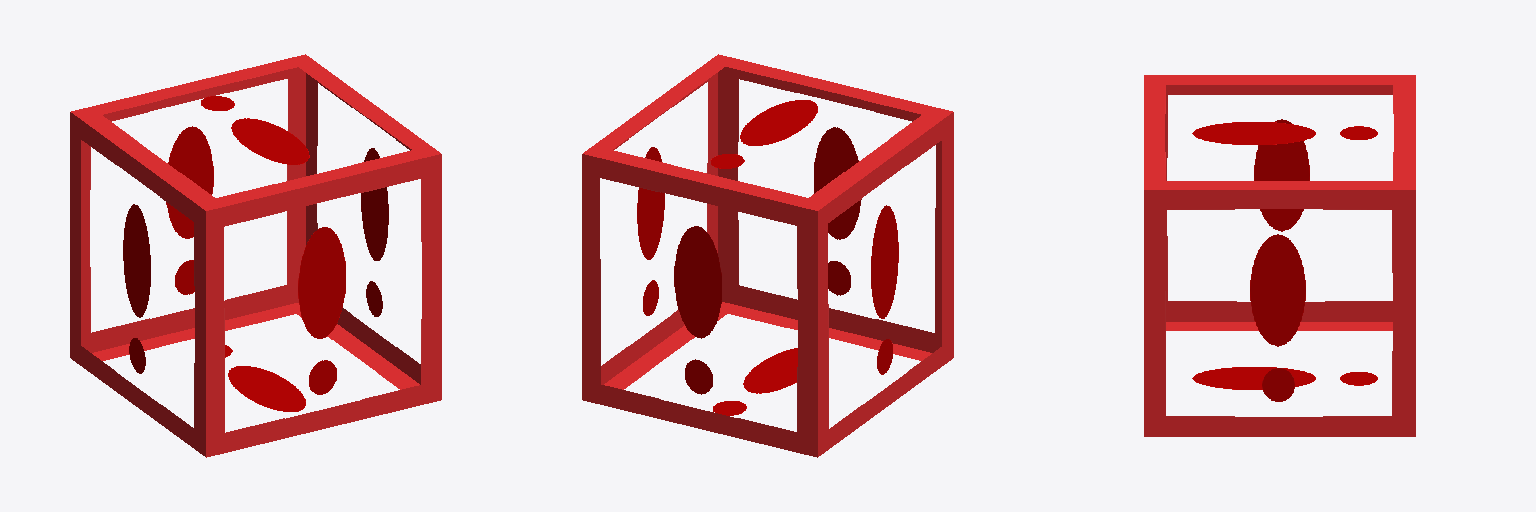
The picture shows the model from 3 angles: view 1: azimuth 30°, elevation 25°; view 2: azimuth 150°, elevation 25°; view 3: azimuth 270°, elevation 25°; orthographic projection.
Parts seen in each view (by area): view 1: Cube.001; view 2: Cube.001; view 3: Cube.001.
Part boxes in pixels (x1,y1,x2,y2): Cube.001: (70,54,441,457); Cube.001: (582,54,953,457); Cube.001: (1144,75,1415,436).
Size of the model in its own units: 2 by 2 by 2.
1 materials, 1 textured.